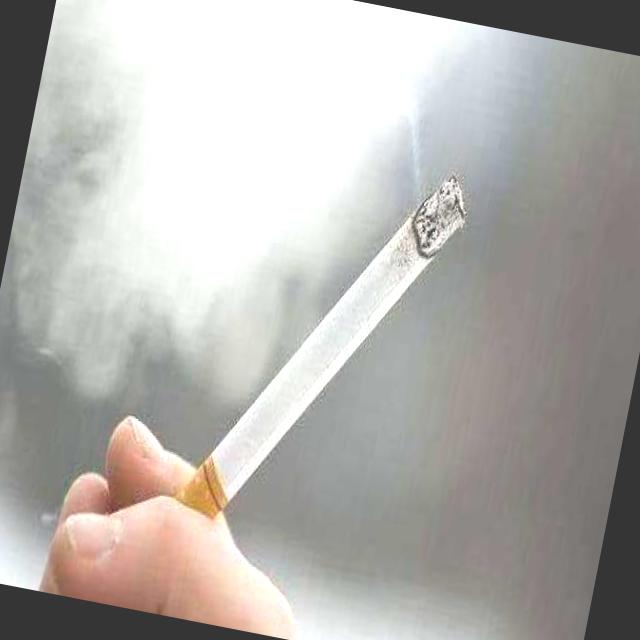smoke: (186, 132, 478, 549)
